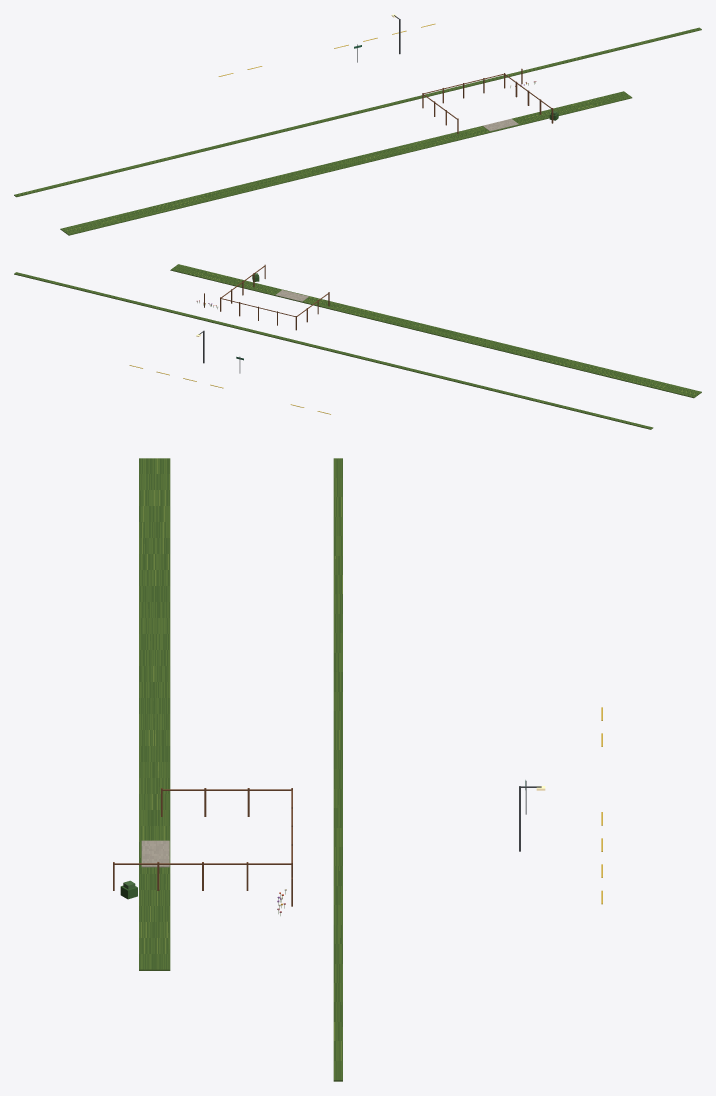
Rendered from structure.glb.
3 renders of one model, top to bottom at view 1: azimuth 30°, elevation 25°; view 2: azimuth 150°, elevation 25°; view 3: azimuth 270°, elevation 25°, orthographic. The views are drawn at different scales.
Parts seen in each view (by area): view 1: Box2, Box1; view 2: Box2, Box1; view 3: Box2, Box1.
Boxes of the visible parts, x1,y1,x2,y2 form: Box2: (60, 91, 632, 235); Box1: (14, 27, 701, 197); Box2: (170, 264, 701, 398); Box1: (14, 272, 653, 429); Box2: (139, 458, 170, 970); Box1: (333, 458, 342, 1081).
Size of the model in its own units: 94.88 by 4.72 by 31.62.
16 materials, 2 textured.
